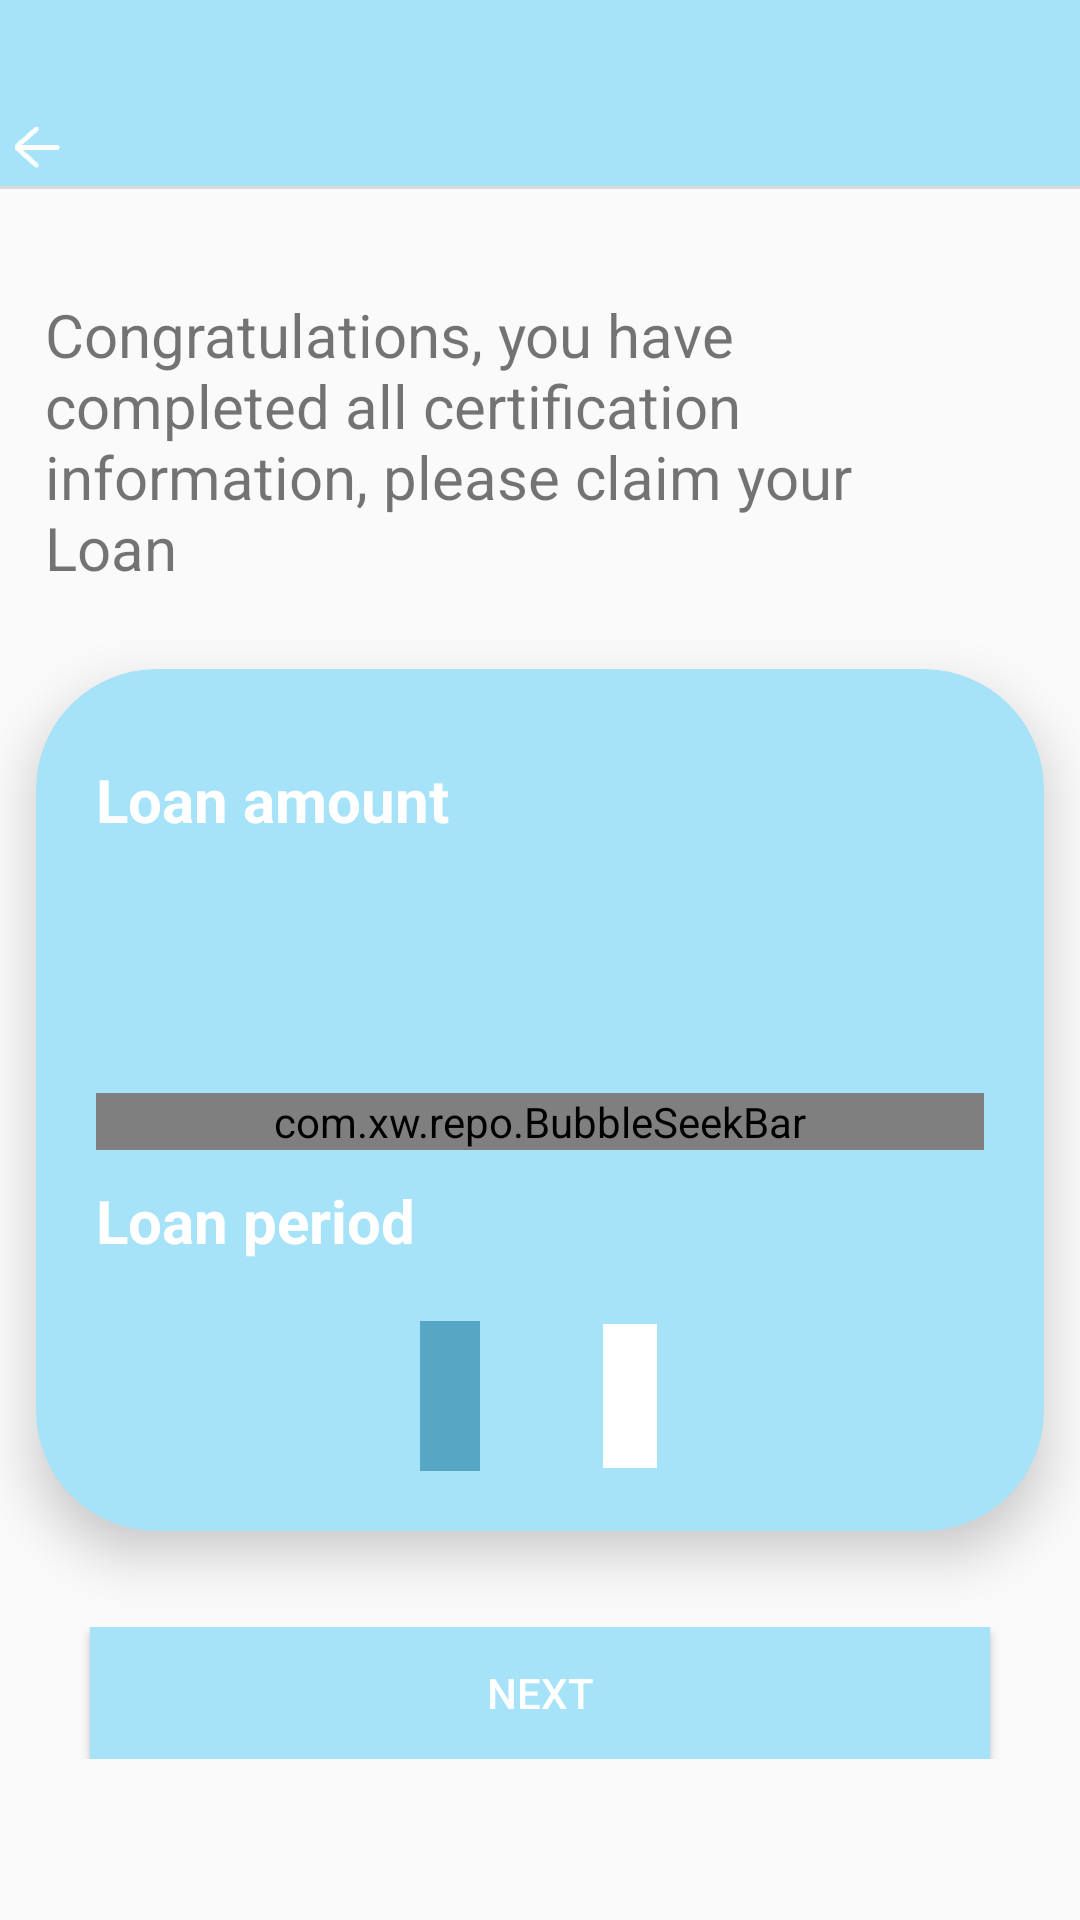

Where to tap for icons on this 1080 x 1920 app screen, as point (x, y):
paisa back: point (37, 147)
